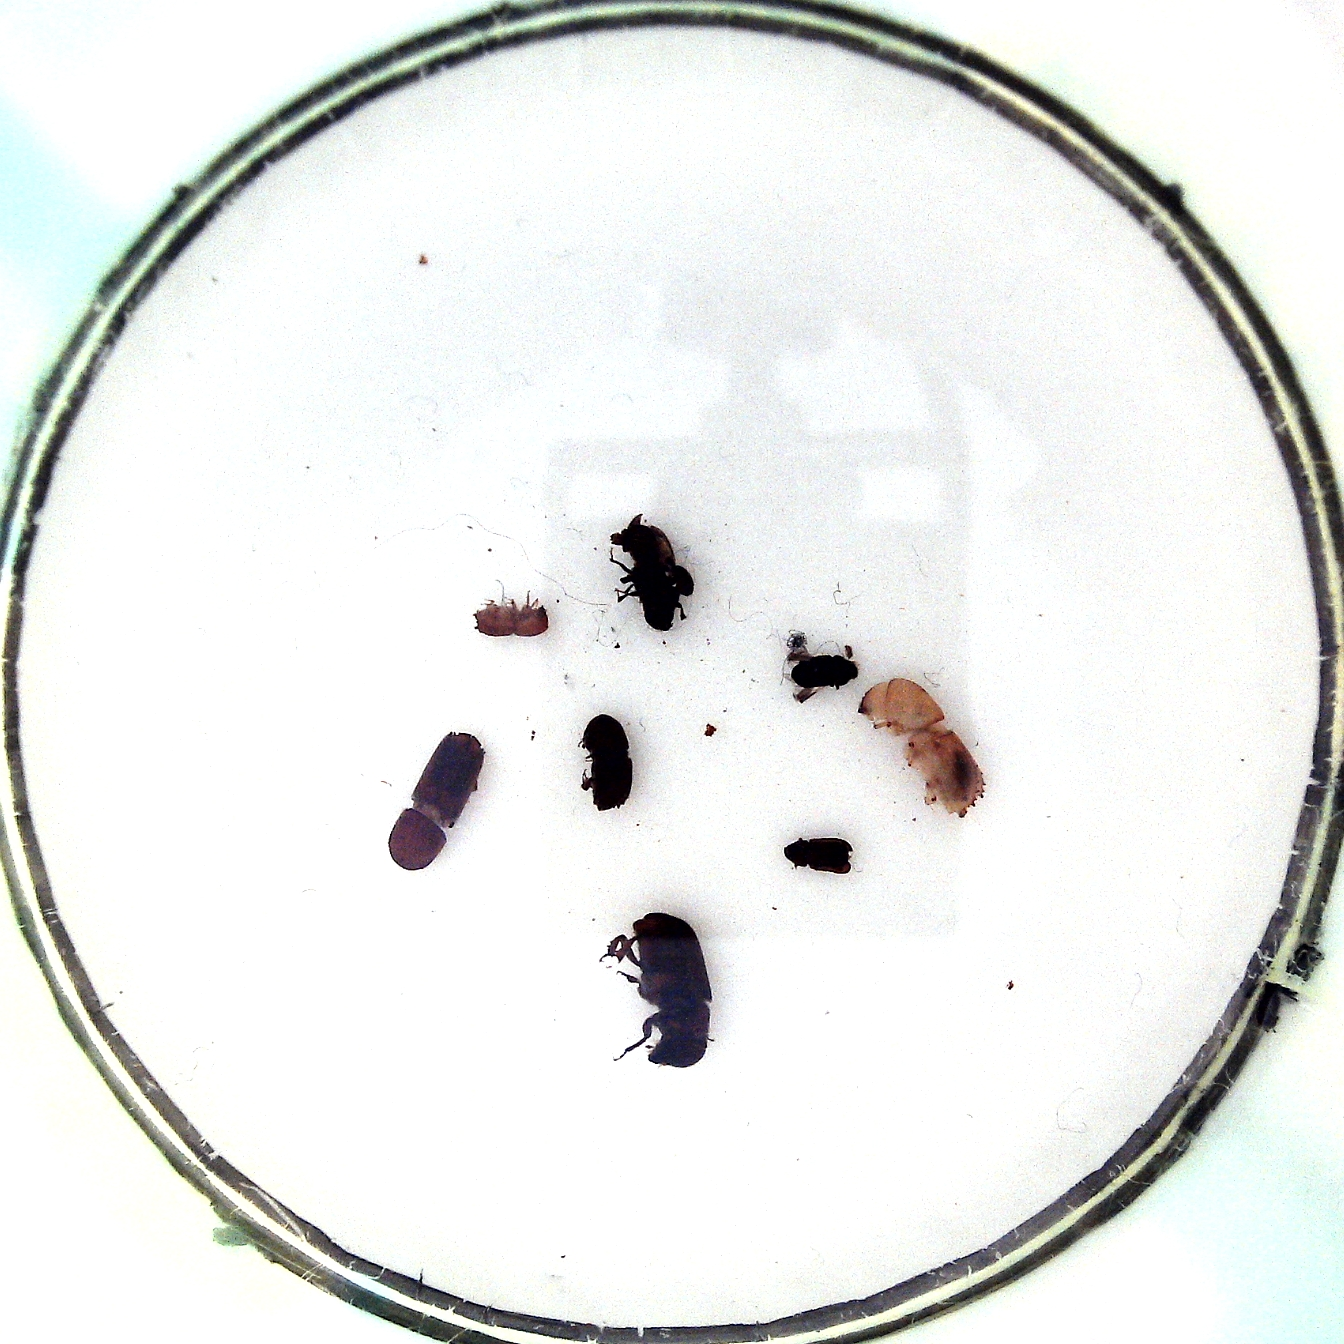Boerner: (857, 677, 985, 818), (386, 731, 486, 871)
Leconte: (633, 912, 713, 1068)
acuminatus: (793, 654, 860, 687)
armandi: (610, 514, 695, 630)
coleoptera: (474, 603, 549, 638), (784, 837, 853, 874)
linnaeus: (580, 714, 633, 812)
